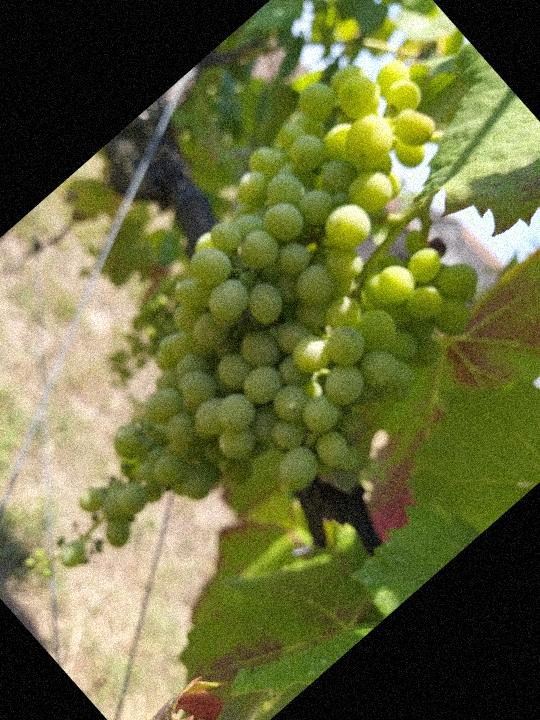grape: (0, 26, 540, 676)
